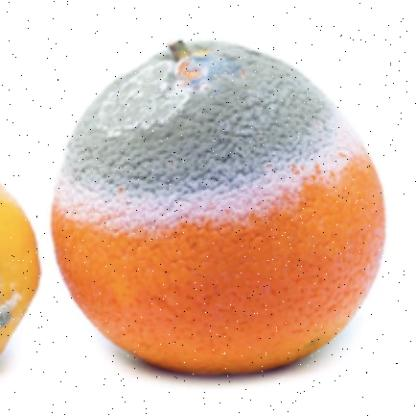rotten: (54, 41, 384, 376)
